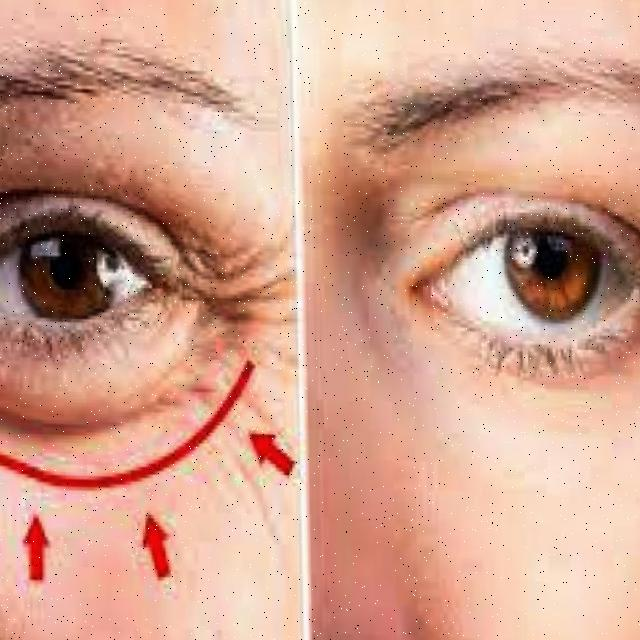puffy_eyes: (0, 321, 229, 432)
